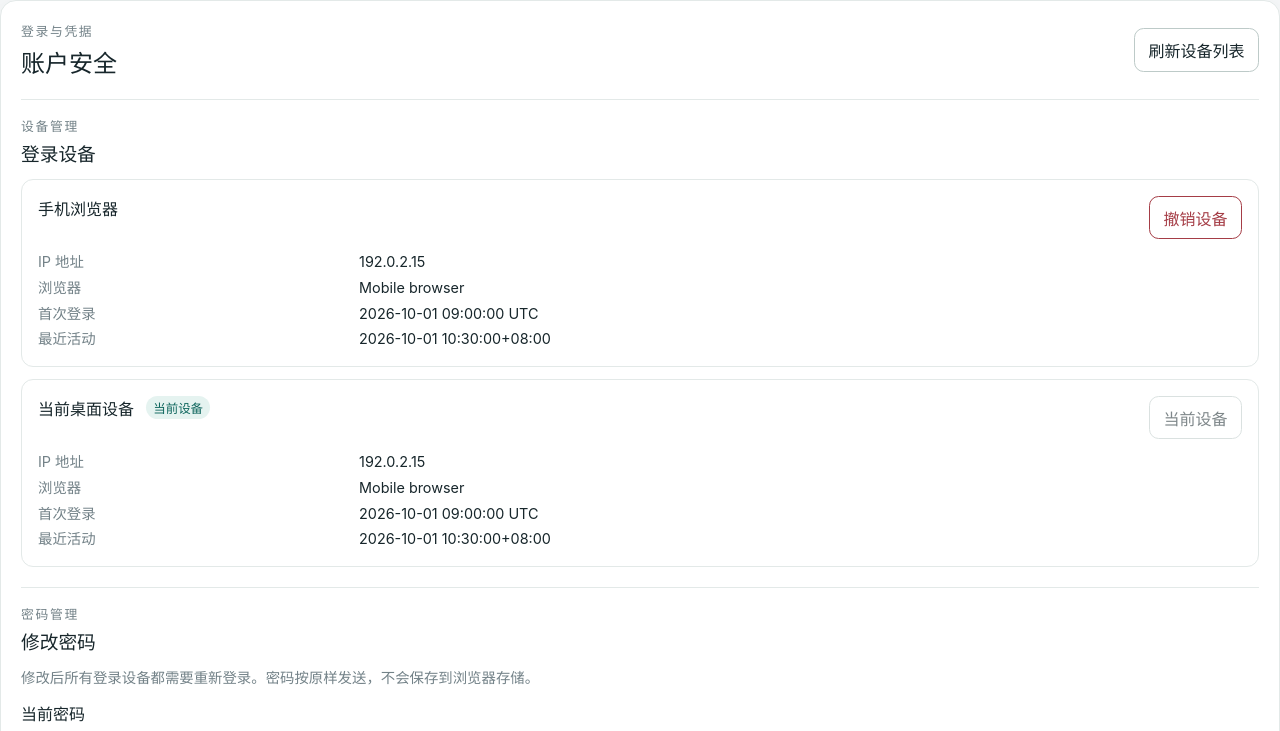
Scenario: AccountSecurityPanel › confirms an other-device revoke once and independently reads the list again
Expected: the heading "手机浏览器" is shown, x1=38 y1=196 x2=118 y2=220
Click the button with aria-label "撤销设备「手机浏览器」" at (1195, 218), box x1=1149 y1=196 x2=1242 y2=239
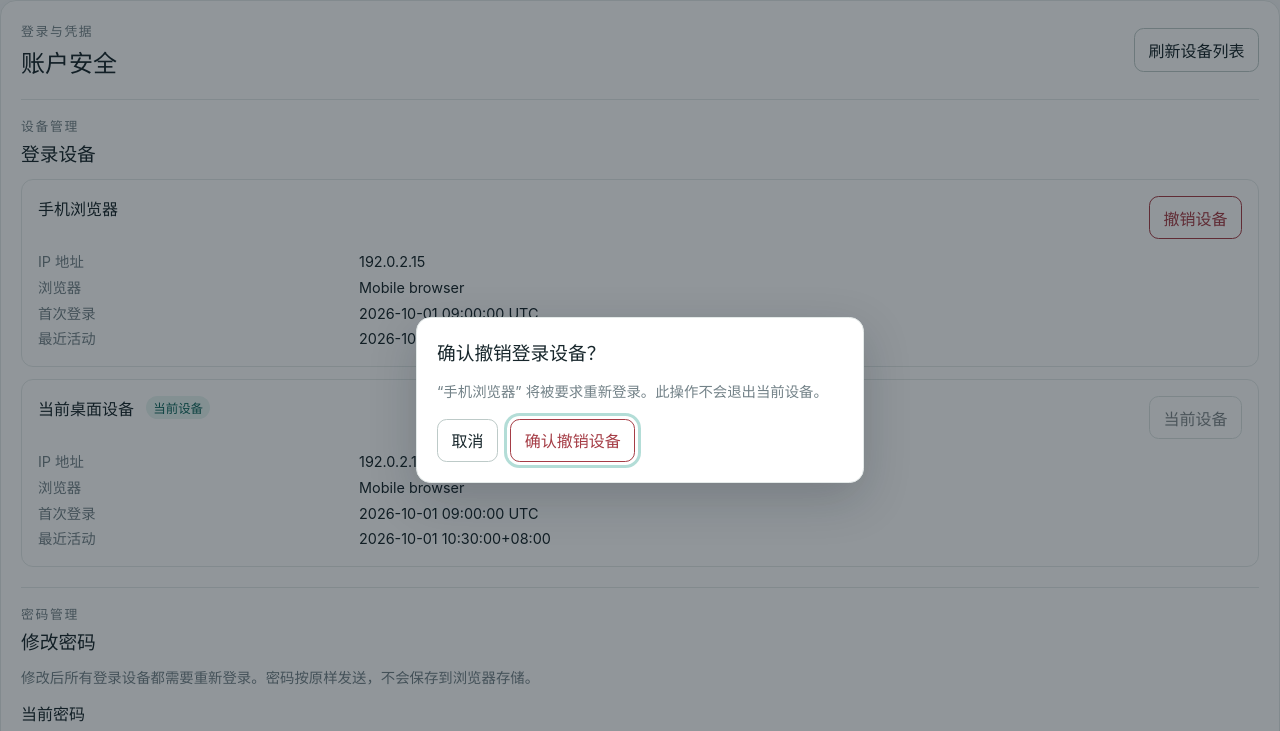
Now the dialog "确认撤销登录设备？" shows "此操作不会退出当前设备。", box x1=515 y1=383 x2=828 y2=400
Double-click the button "确认撤销设备" at (573, 440), box x1=510 y1=418 x2=635 y2=462
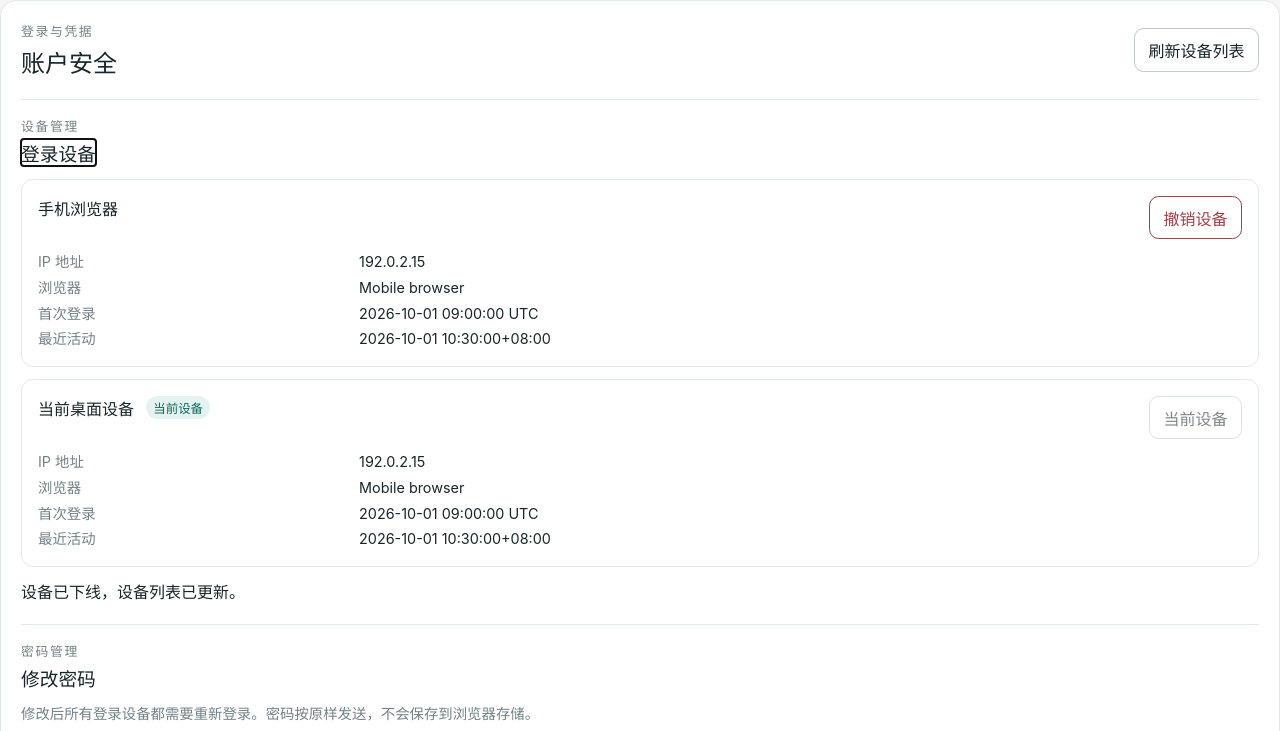
Now the text "设备已下线，设备列表已更新。" is shown, box x1=21 y1=582 x2=245 y2=602
